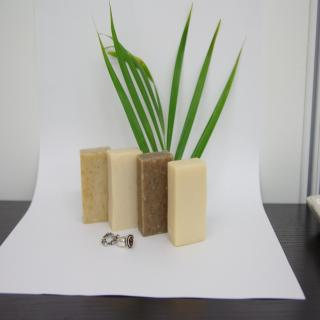Cheese: (166, 160, 208, 252), (136, 147, 174, 236), (108, 146, 143, 231), (79, 144, 112, 223)
